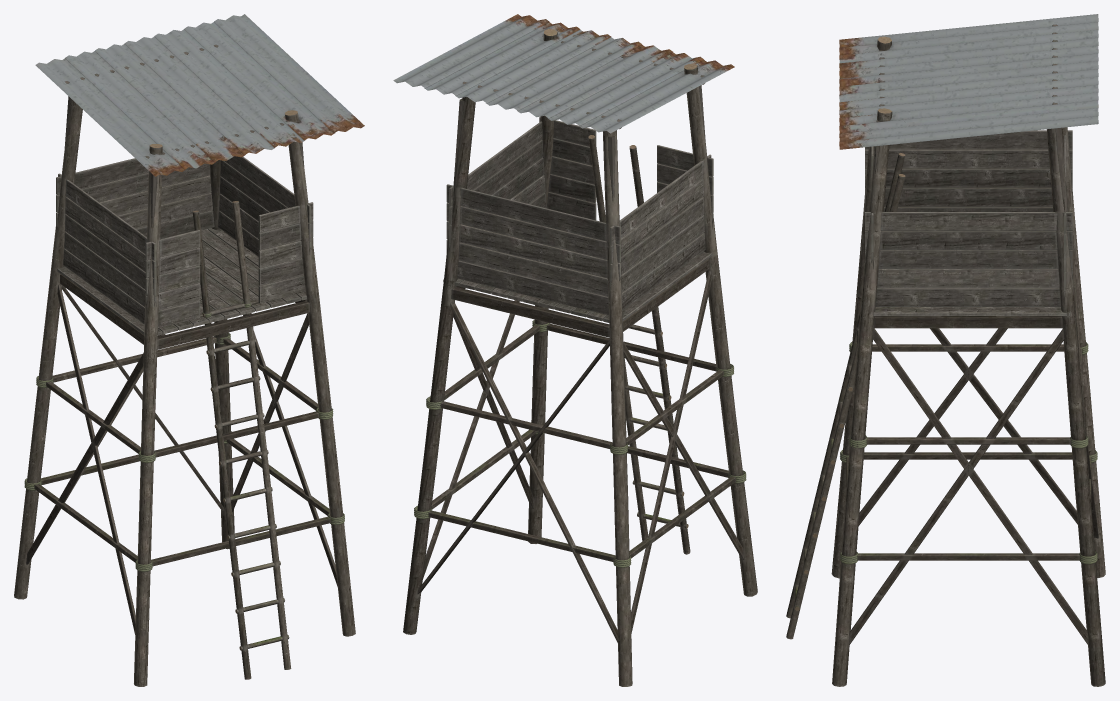
File: deerstand.glb
The picture shows the model from 3 angles, left to right: view 1: azimuth 30°, elevation 25°; view 2: azimuth 150°, elevation 25°; view 3: azimuth 270°, elevation 25°; orthographic projection. The views are drawn at different scales.
Visible parts, largest first — view 1: deerstand; view 2: deerstand; view 3: deerstand.
Part boxes in pixels (box(x1,y1,x2,y2)): deerstand: box(14, 14, 364, 686); deerstand: box(393, 14, 757, 686); deerstand: box(786, 14, 1105, 686).
Bounding box in the file's own units: 2.32 × 5.1 × 2.59.
Materials: 1 (1 with a texture image).
